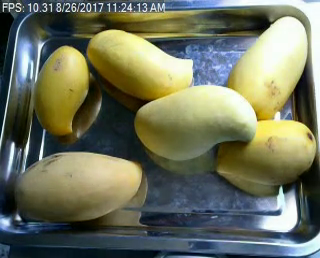Mango: (136, 84, 258, 160), (14, 152, 142, 223), (228, 14, 307, 121), (88, 30, 195, 105), (216, 119, 316, 187), (31, 43, 88, 136)
